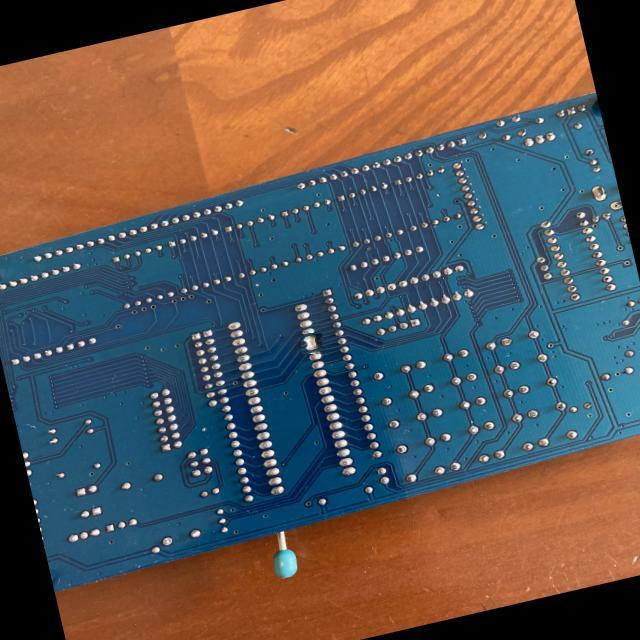damged: (300, 332, 322, 354)
